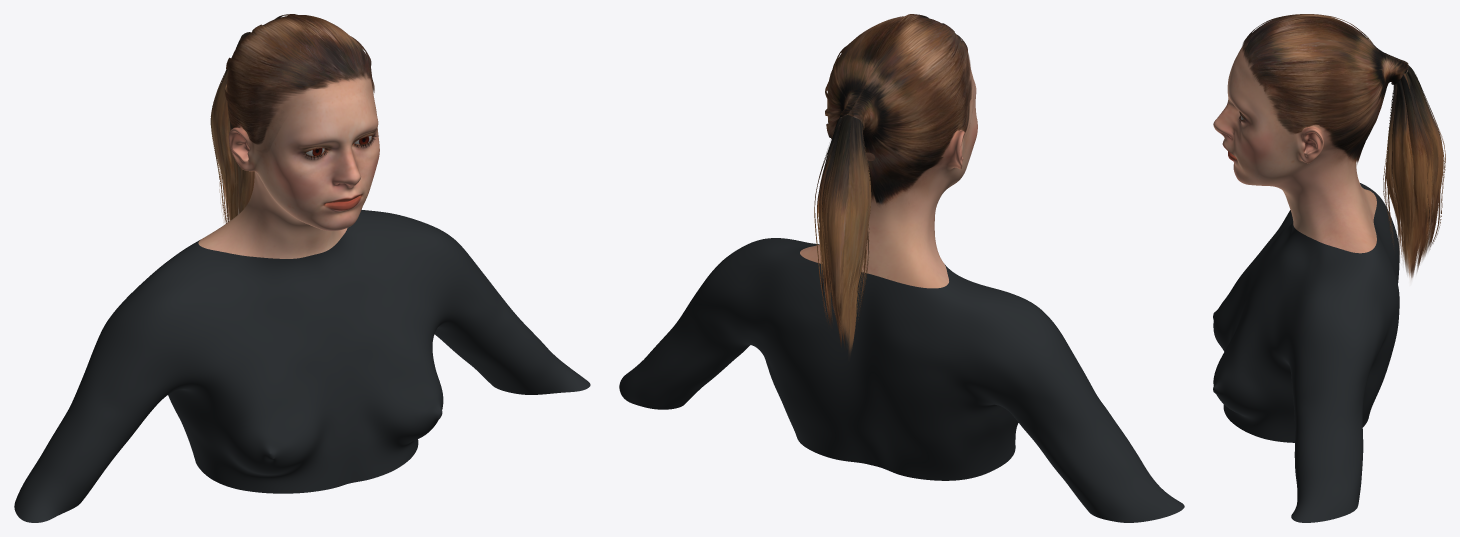
The model's file is portrait-woman.glb.
The picture shows the model from 3 angles, left to right: view 1: azimuth 30°, elevation 25°; view 2: azimuth 150°, elevation 25°; view 3: azimuth 270°, elevation 25°; orthographic projection. The views are drawn at different scales.
Visible parts, largest first — view 1: Portrait_Bust, Portrait_Ponytail; view 2: Portrait_Bust, Portrait_Ponytail; view 3: Portrait_Bust, Portrait_Ponytail.
Part boxes in pixels (left/top/right/bottom): Portrait_Bust: left=14, top=73, right=590, bottom=522; Portrait_Ponytail: left=210, top=14, right=374, bottom=223; Portrait_Bust: left=619, top=62, right=1184, bottom=522; Portrait_Ponytail: left=814, top=14, right=972, bottom=354; Portrait_Bust: left=1213, top=46, right=1399, bottom=522; Portrait_Ponytail: left=1241, top=14, right=1445, bottom=279.
Bounding box in the file's own units: 1.25 × 0.9058 × 0.5.
5 materials, 4 textured.
